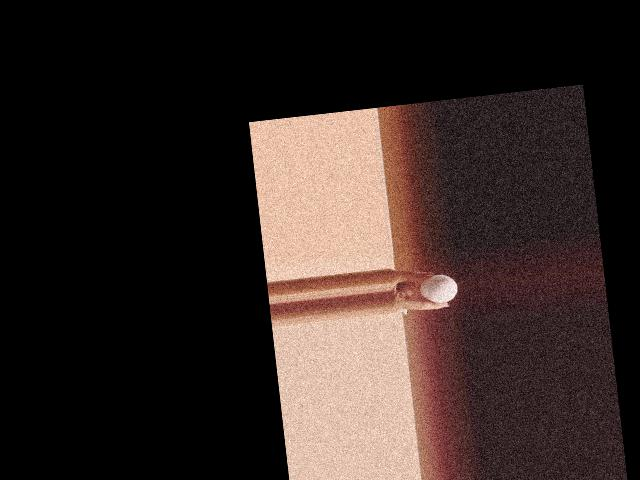egg: (417, 272, 458, 304)
